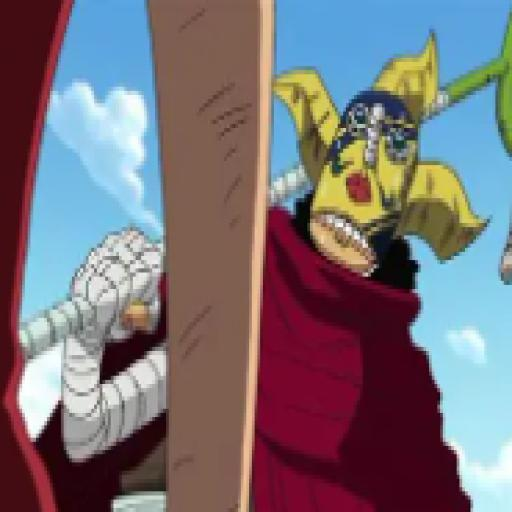Usopp: (16, 29, 512, 512)
